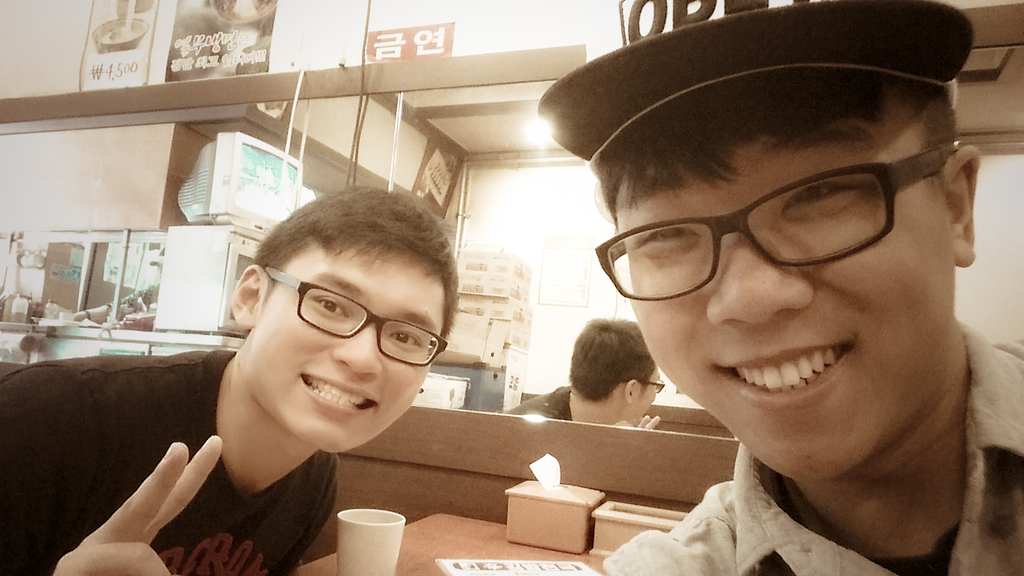Human-face: (618, 136, 940, 479), (265, 258, 442, 459), (639, 369, 662, 423)
